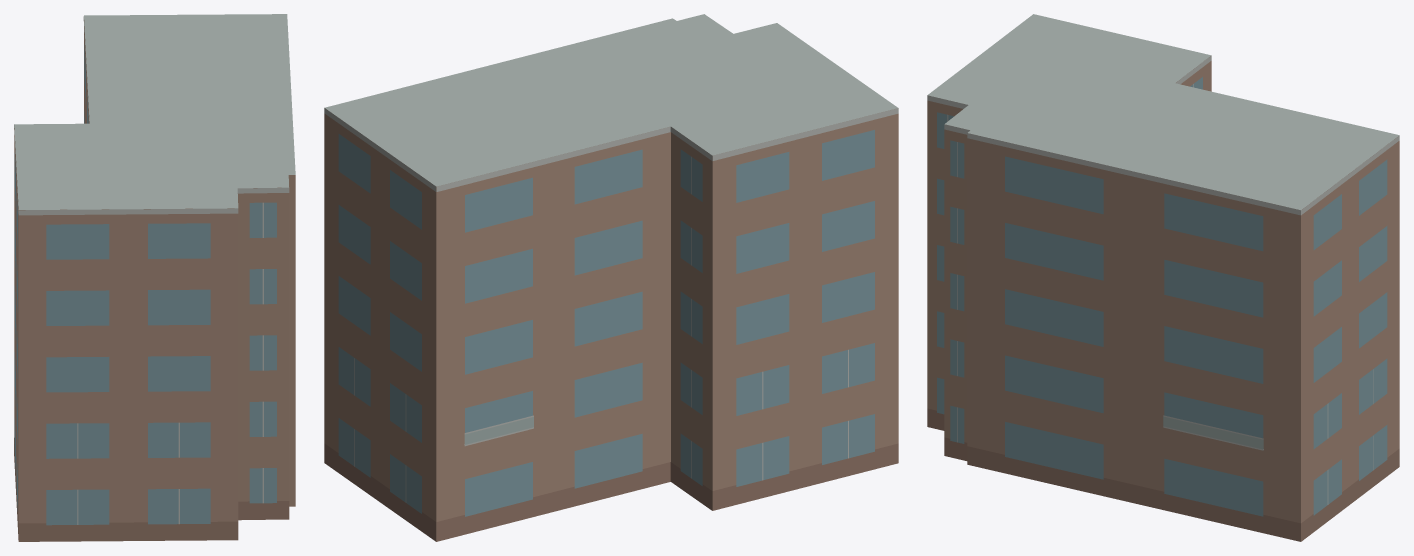
Rendered from survey-upis-32932919.glb.
The picture shows the model from 3 angles, left to right: view 1: azimuth 30°, elevation 25°; view 2: azimuth 150°, elevation 25°; view 3: azimuth 270°, elevation 25°; orthographic projection. The views are drawn at different scales.
Visible parts, largest first — view 1: survey-upis-32932919.tmp; view 2: survey-upis-32932919.tmp; view 3: survey-upis-32932919.tmp.
Boxes of the visible parts, left/top/right/bottom form: survey-upis-32932919.tmp: left=14, top=14, right=295, bottom=541; survey-upis-32932919.tmp: left=324, top=14, right=898, bottom=541; survey-upis-32932919.tmp: left=927, top=14, right=1399, bottom=541.
Bounding box in the file's own units: 19.68 × 15.5 × 20.02.
